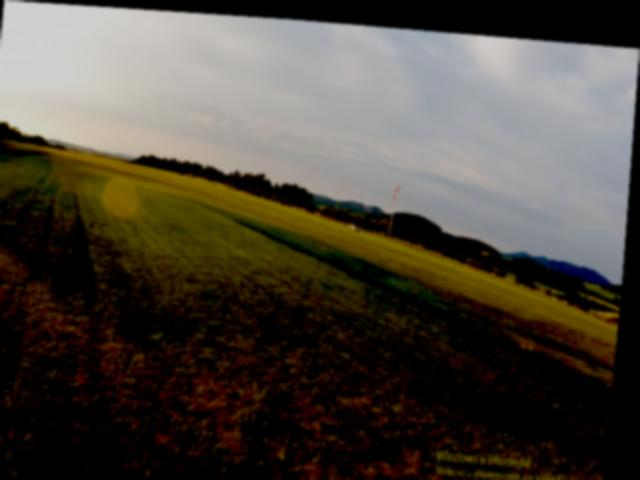plane: (350, 216, 366, 229)
